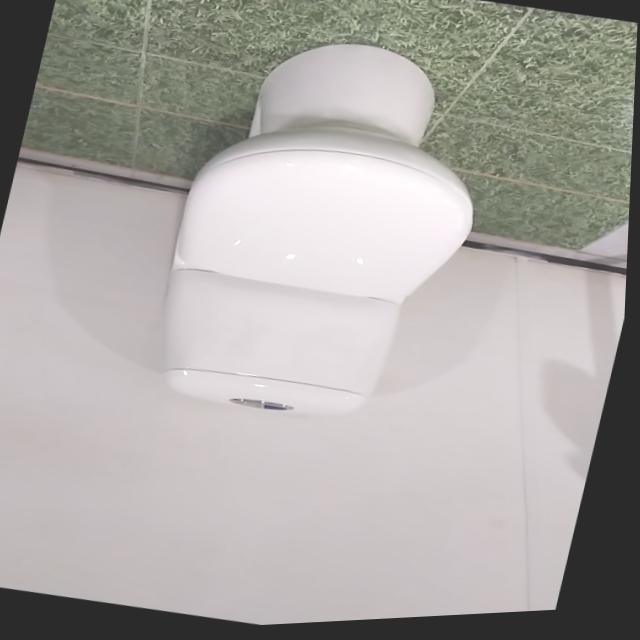toilet: (139, 15, 514, 452)
